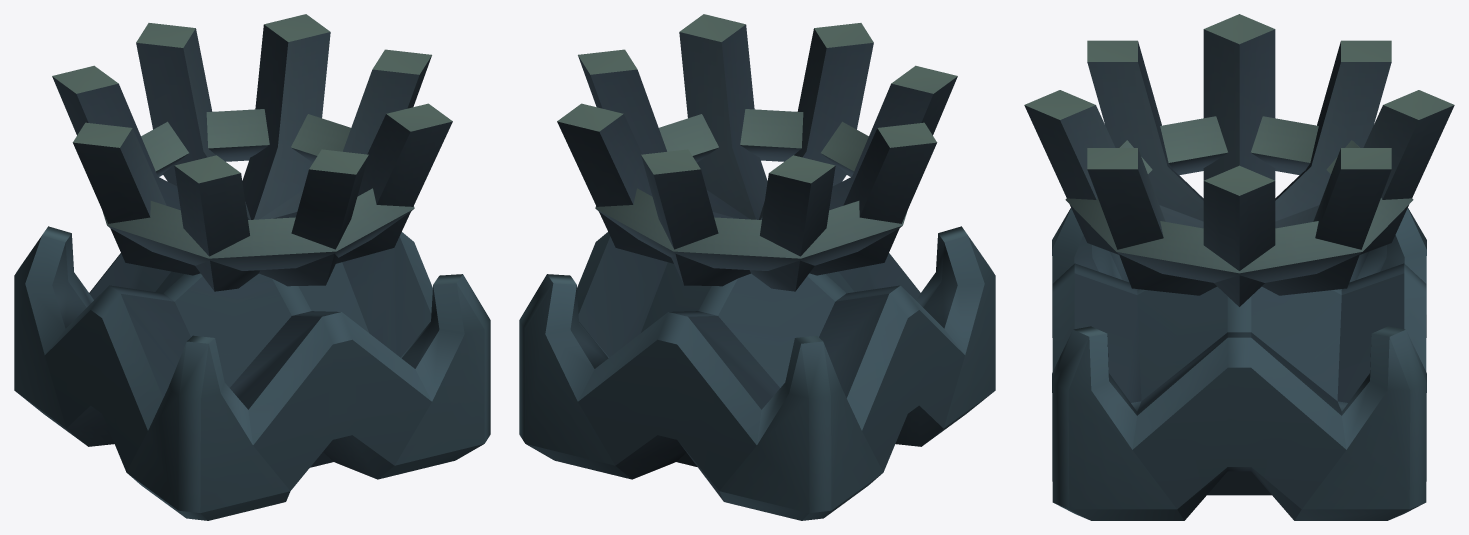
The model's file is torch_3.fbx.
The picture shows the model from 3 angles, left to right: view 1: azimuth 30°, elevation 25°; view 2: azimuth 150°, elevation 25°; view 3: azimuth 270°, elevation 25°; orthographic projection. The views are drawn at different scales.
Parts seen in each view (by area): view 1: torch_3; view 2: torch_3; view 3: torch_3.
Part boxes in pixels (box(x1,y1,x2,y2)): torch_3: box(14, 14, 490, 520); torch_3: box(519, 14, 995, 520); torch_3: box(1024, 14, 1454, 520).
Size of the model in its own units: 130 by 115 by 130.
